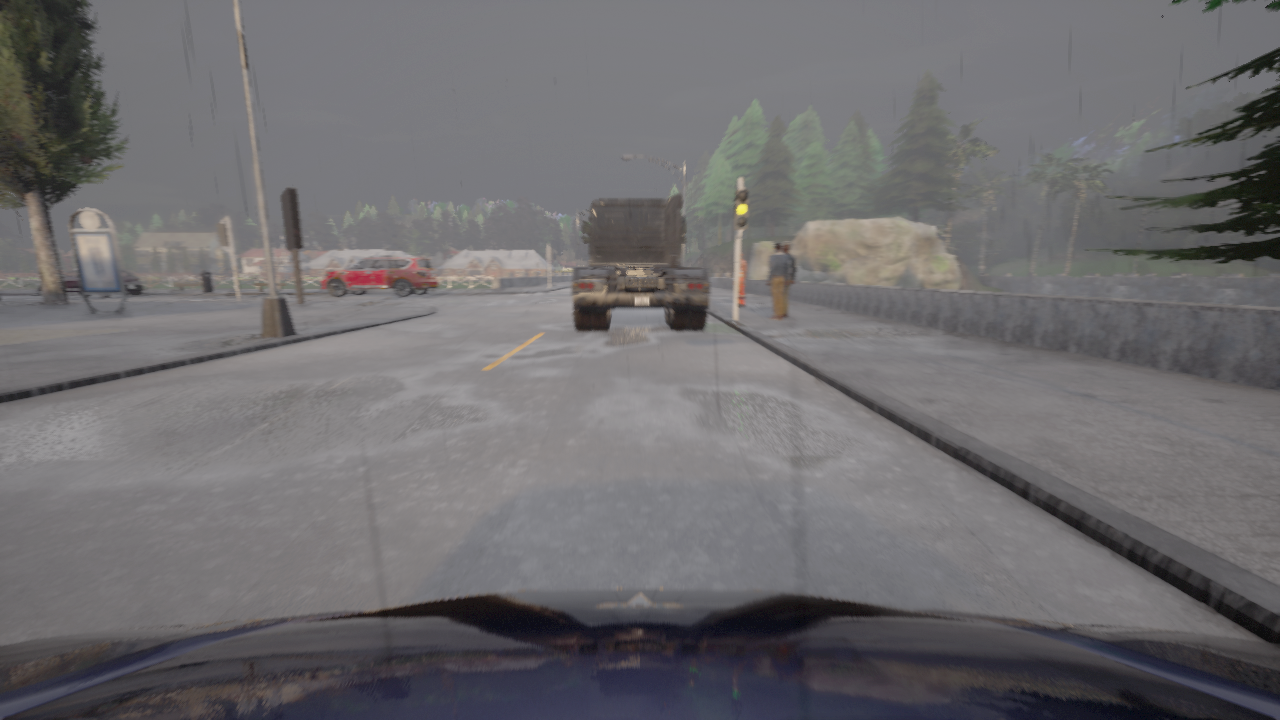cyclist: (0, 588, 1279, 719), (572, 194, 709, 330), (320, 256, 438, 297), (37, 269, 143, 297)
pedestrian: (766, 242, 790, 319), (782, 244, 796, 317), (738, 252, 746, 306)
